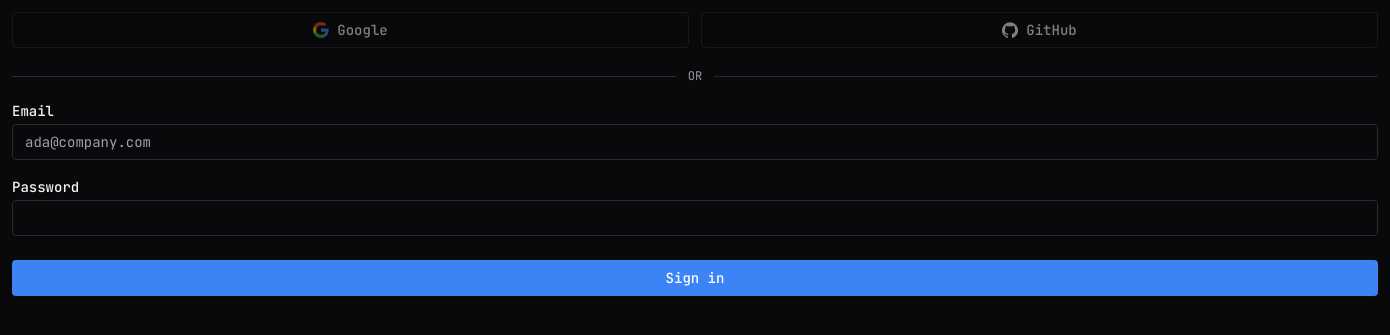
LoginForm › shows validation errors instead of submitting for an invalid email
The width and height of the screenshot is (1390, 335).
Type "not-an-email" into the field labelled "Email" at (695, 142), box [12,124,1378,160]
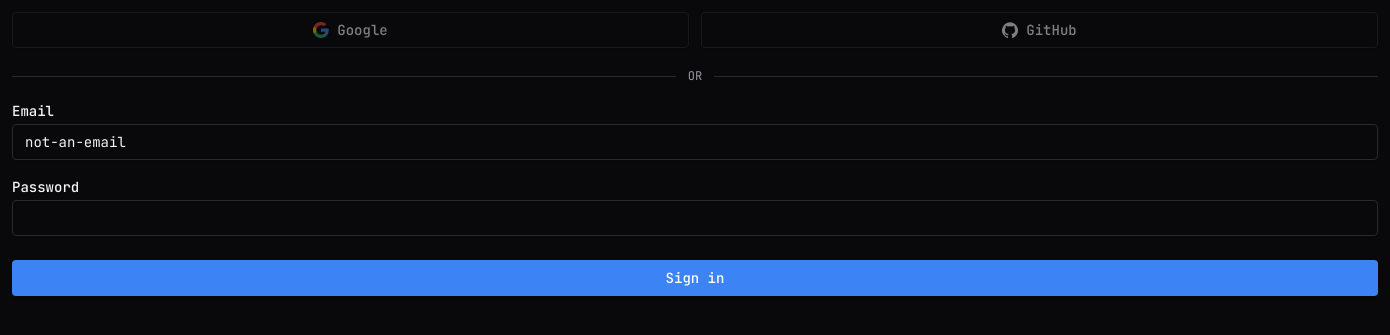
Type "x" into the password field labelled "Password" at (695, 218), box [12,200,1378,236]
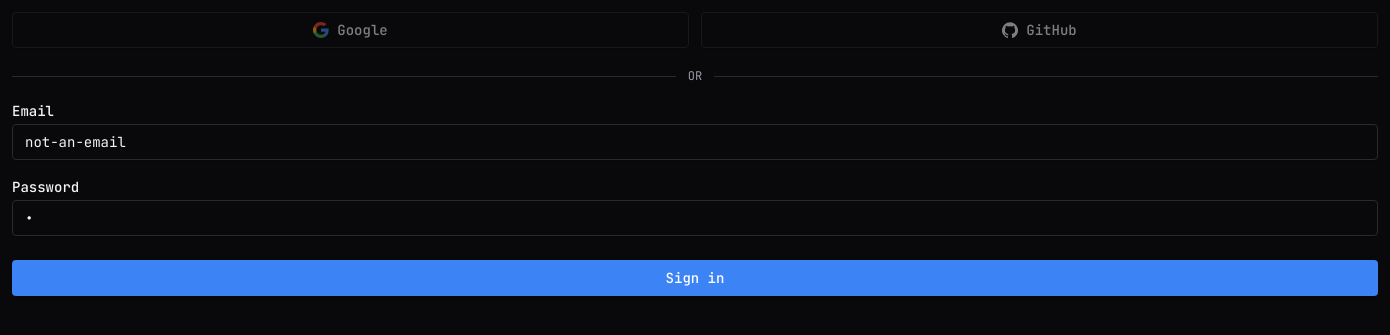
Click the button "Sign in" at (695, 278), box [12,260,1378,296]
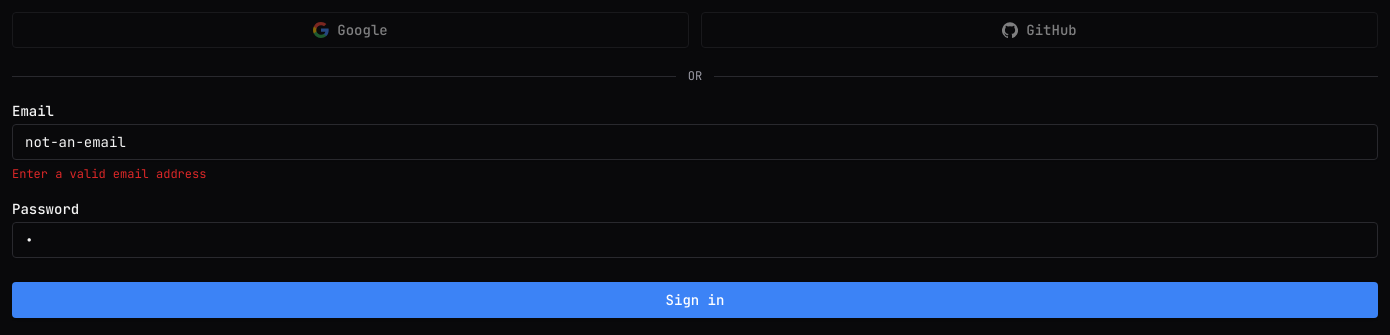
Result: the text "Enter a valid email address" is shown at [12,166,206,182]
